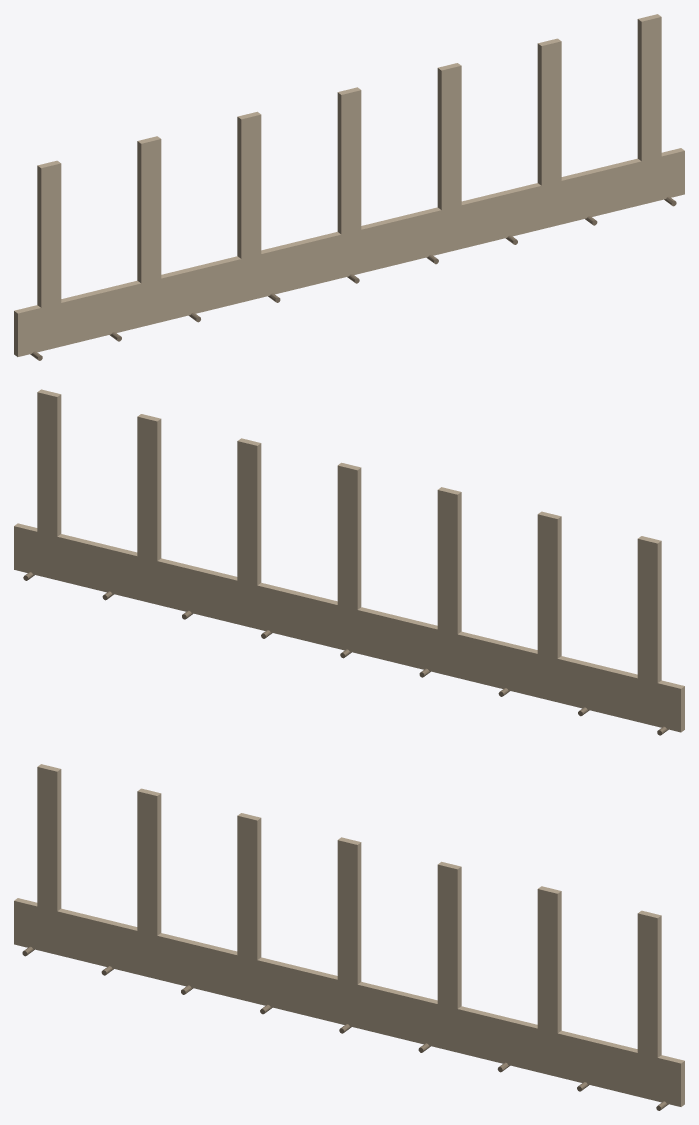
Rendered from r-117-drc-floating-docks.glb.
The picture shows the model from 3 angles, top to bottom: view 1: azimuth 30°, elevation 25°; view 2: azimuth 150°, elevation 25°; view 3: azimuth 330°, elevation 25°; orthographic projection.
Parts seen in each view (by area): view 1: deck, piles; view 2: deck, piles; view 3: deck, piles.
Part boxes in pixels (x1,y1,x2,y2): deck: (14, 14, 684, 356); piles: (30, 196, 676, 360); deck: (14, 389, 684, 732); piles: (23, 572, 668, 735); deck: (14, 764, 684, 1106); piles: (22, 946, 668, 1110).
Bounding box in the file's own units: 40000 × 10699 × 1501.
